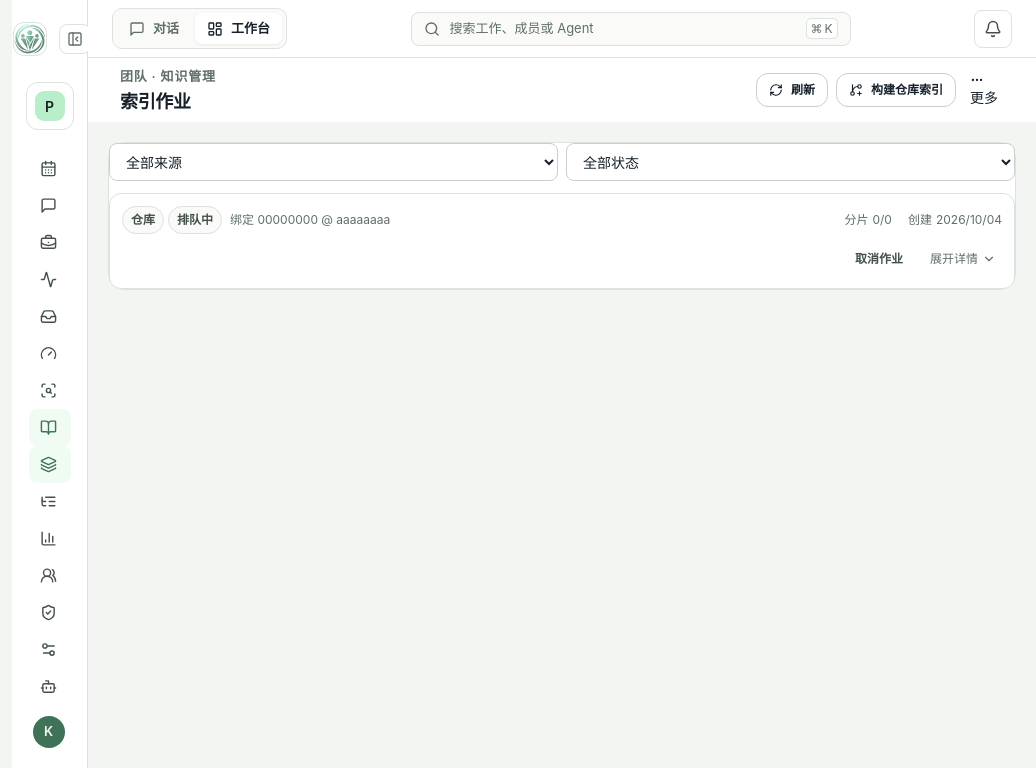
KnowledgeIndexPage › cancels a queued job from its row and swaps in the cancelled snapshot
This screenshot has width=1036, height=768.
Click the button "取消作业": (879,259) [842,242,916,276]
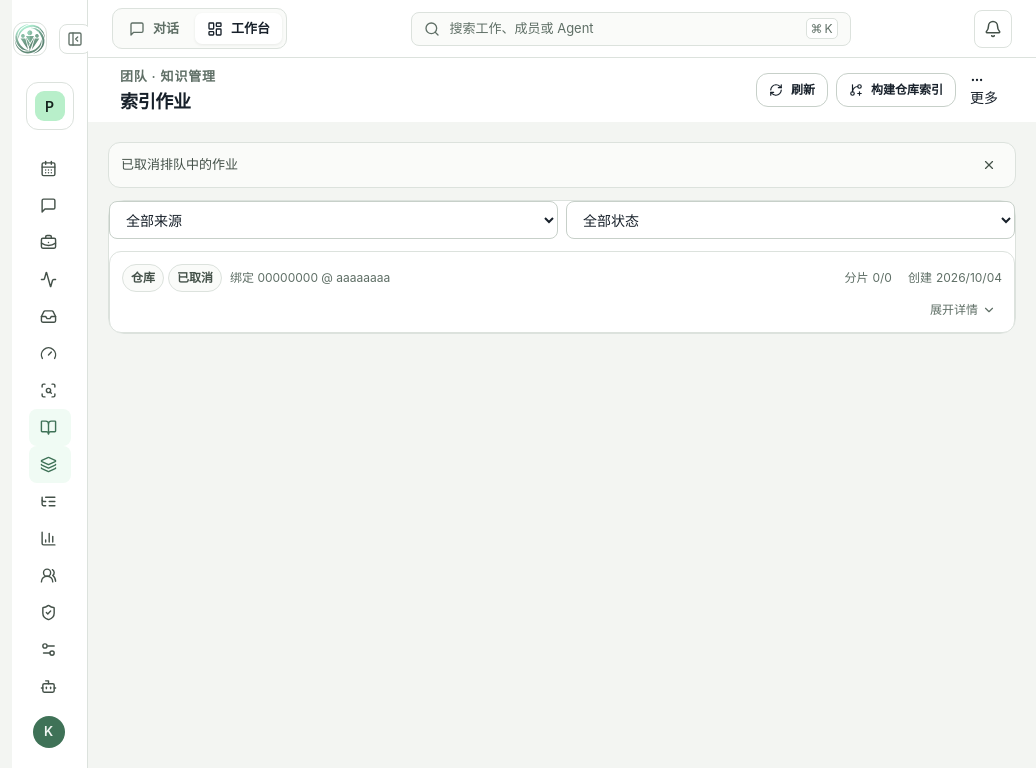
Expected: the text "已取消排队中的作业" is shown, [108,142,1016,188]
Expected: the text "已取消" is shown, [108,142,1016,188]
